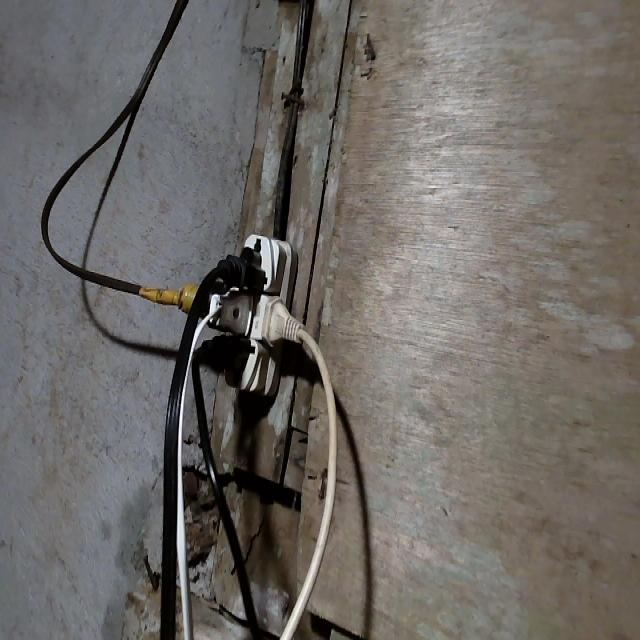-: (191, 231, 300, 397)
